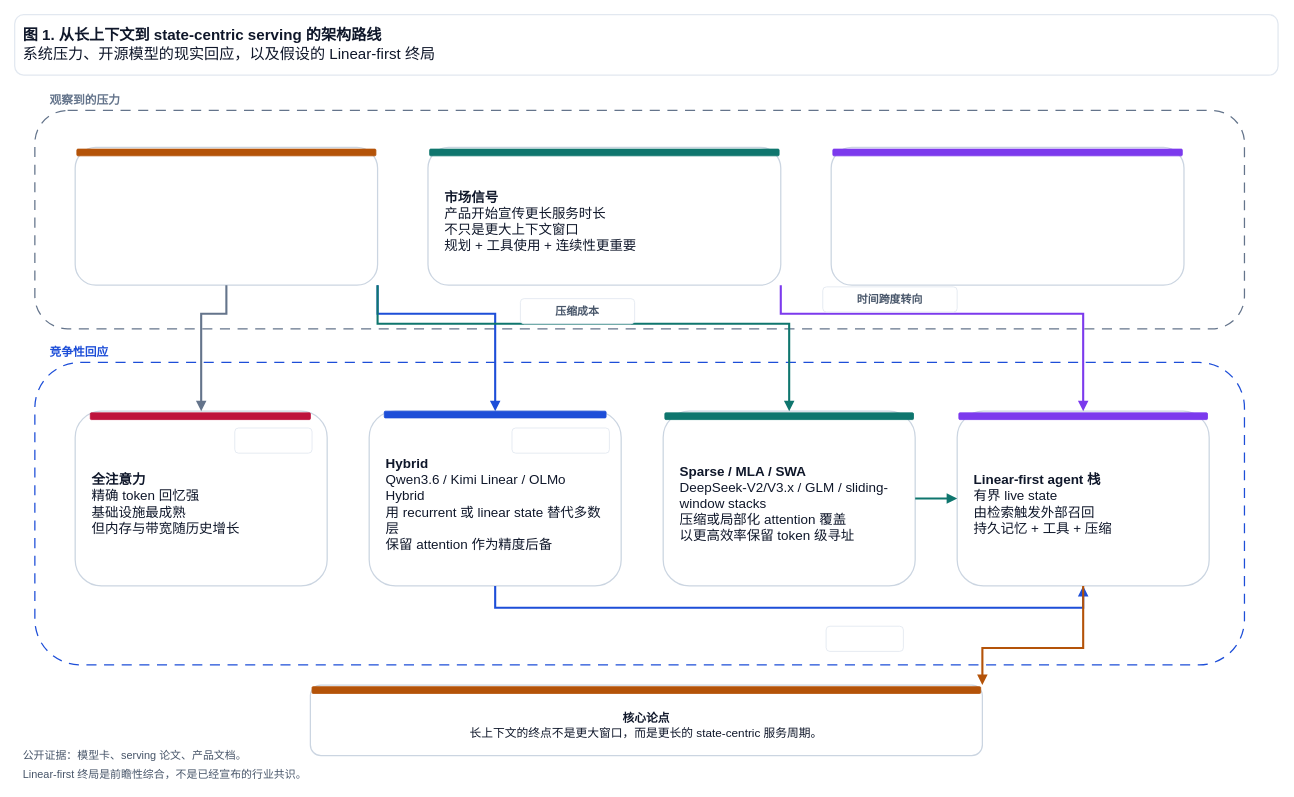
Some shapes in this 1294 by 797 pixel diagram are drawn without their labels. Each missing label, with the centre of its shape:
"基线" belongs at point (273, 440).
"研究问题 当服务长度 T → ∞， 记忆应继续以 token 寻址， 还是转向保状态并可外部召回？" belongs at point (1007, 215).
"系统瓶颈 KV cache 随上下文长度增长 prefill/decode 带宽耦合 serving agent 工作负载把窗口大小转化为时间跨度成本" belongs at point (226, 215).
"论点" belongs at point (864, 638).
"降低斜率" belongs at point (560, 440).
